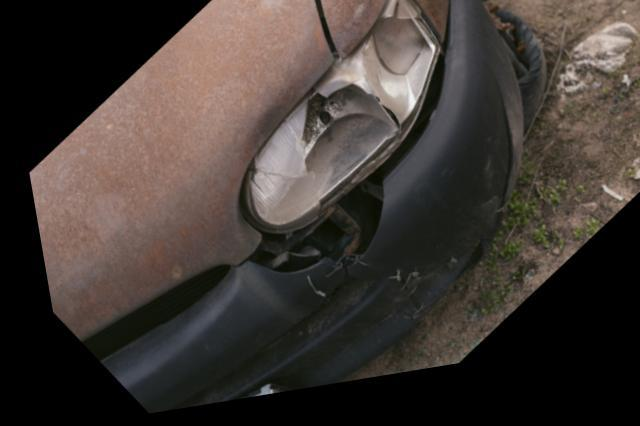lamp broken: (237, 4, 437, 240)
